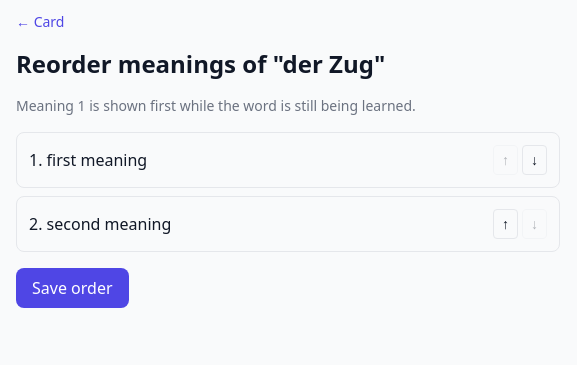
Test: SenseReorderPage › moving a meaning down and saving submits the new order
The width and height of the screenshot is (577, 365).
Expected: the heading "Reorder meanings of \"der Zug\"" is shown, [16,47,385,80]
Click the button named "Move down": (534, 160) [522,145,547,175]
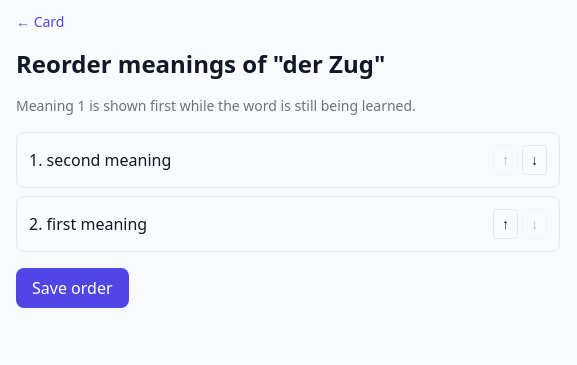
Click the button "Save order": (72, 288) [16,268,128,308]
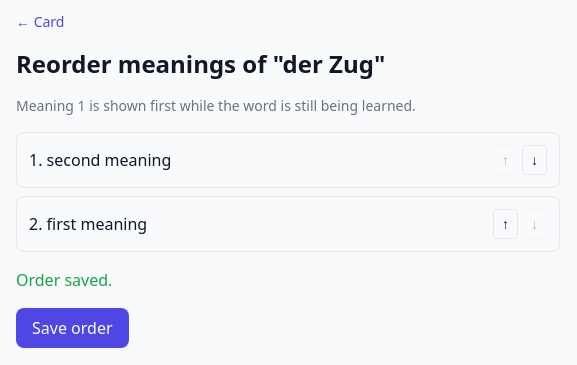
Expected: the text "Order saved." is shown, [16,269,112,291]
